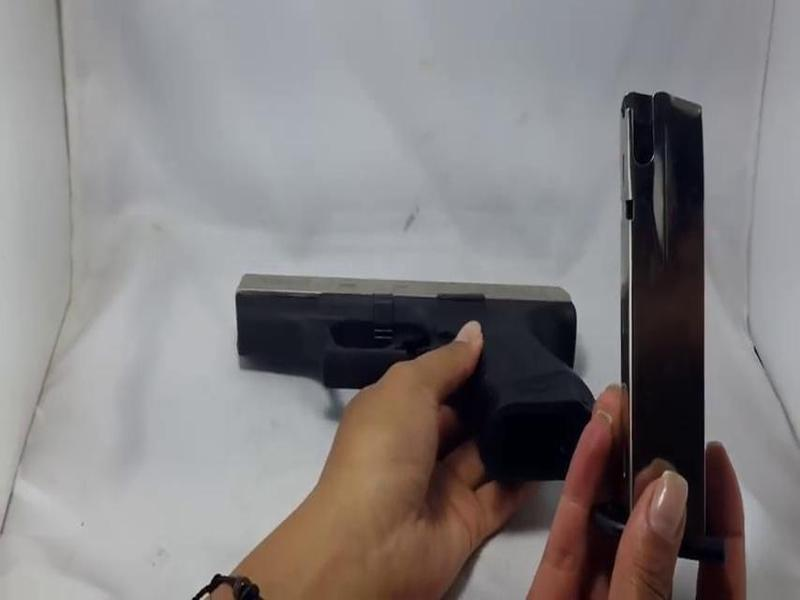Pistola: (195, 235, 617, 474)
